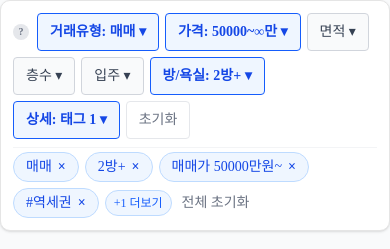
Test: FilterBar — 모바일 필터 칩 +N 더보기 토글 › '+N 더보기' 클릭 시 숨겨진 칩 모바일에서도 노출 + '접기' 버튼 표시
Click the button "+1 더보기" at (138, 203), box [105,190,172,216]
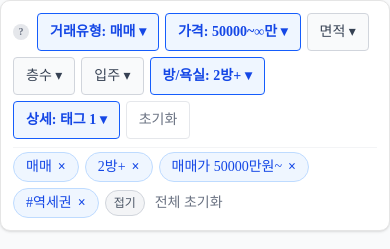
Check: the button "접기" is shown, box [105,190,145,216]
Check: the button "+1 더보기" is gone
